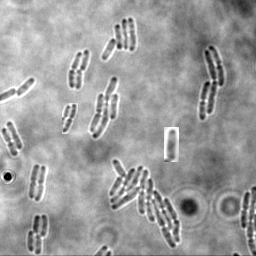Dividing: (164, 127, 179, 162), (67, 52, 81, 89), (62, 103, 78, 134), (1, 128, 18, 157), (34, 166, 47, 202), (28, 164, 39, 200), (239, 192, 249, 229)
Microcolony: (109, 158, 180, 249), (88, 76, 119, 139), (199, 45, 224, 121), (101, 18, 136, 61), (27, 214, 48, 255)
Rod: (5, 121, 23, 150), (16, 78, 34, 99), (79, 50, 89, 72), (73, 69, 82, 90)
